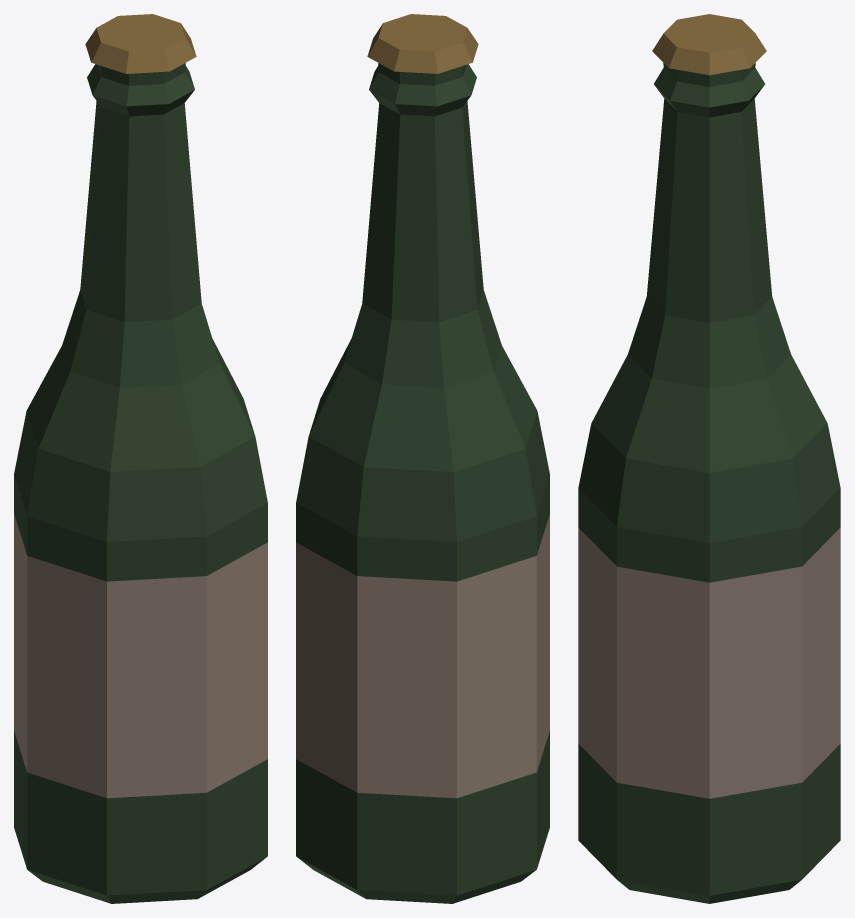
The model's file is Bottle1.glb.
The picture shows the model from 3 angles, left to right: view 1: azimuth 30°, elevation 25°; view 2: azimuth 150°, elevation 25°; view 3: azimuth 270°, elevation 25°; orthographic projection.
Parts seen in each view (by area): view 1: Bottle1; view 2: Bottle1; view 3: Bottle1.
Part boxes in pixels (x1,y1,x2,y2): Bottle1: [14, 14, 267, 903]; Bottle1: [296, 14, 549, 903]; Bottle1: [578, 14, 840, 903].
Size of the model in its own units: 0.4517 by 1.56 by 0.4517.
